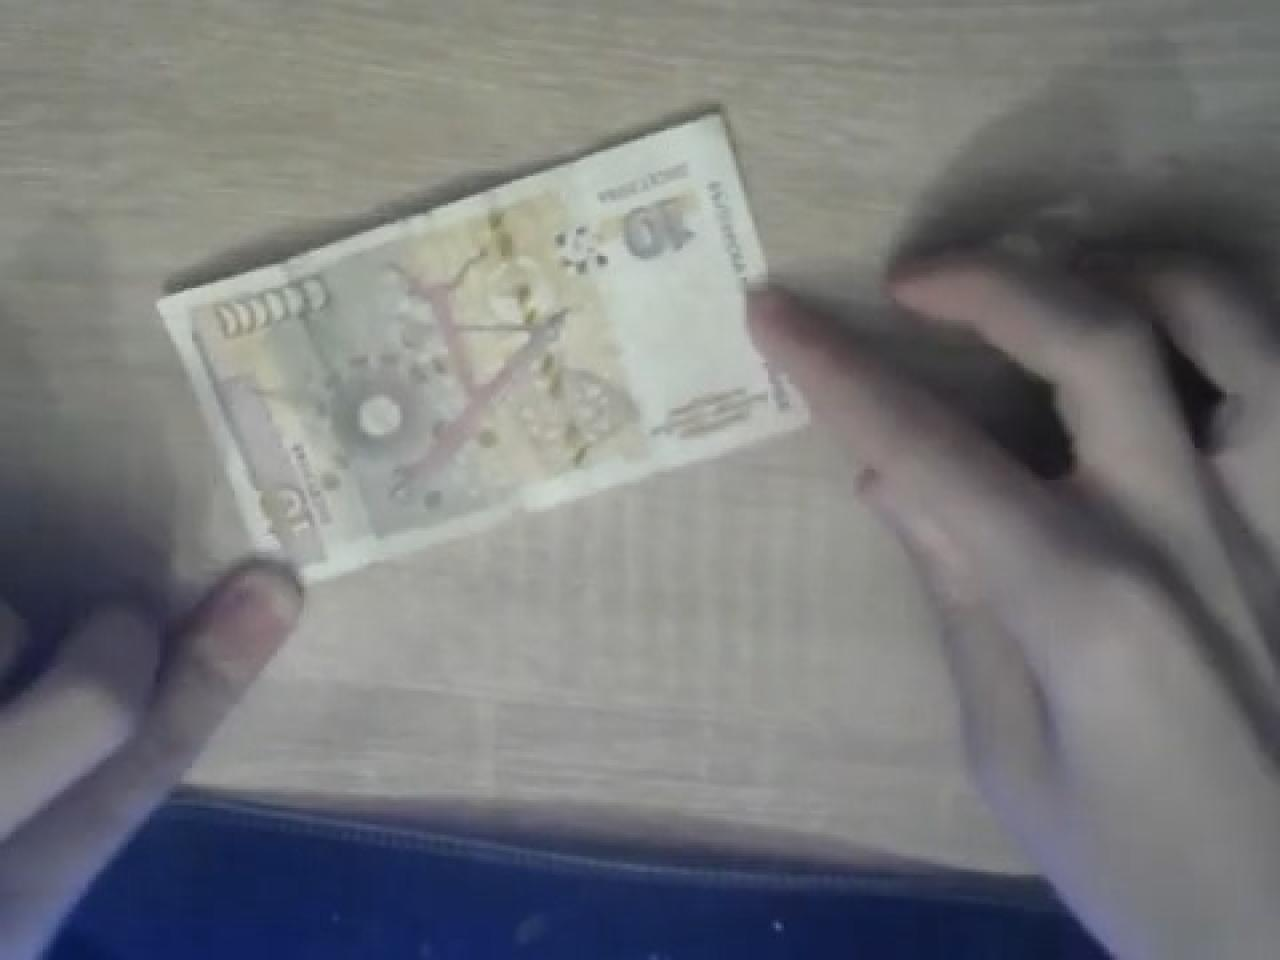10leva: (154, 104, 810, 579)
